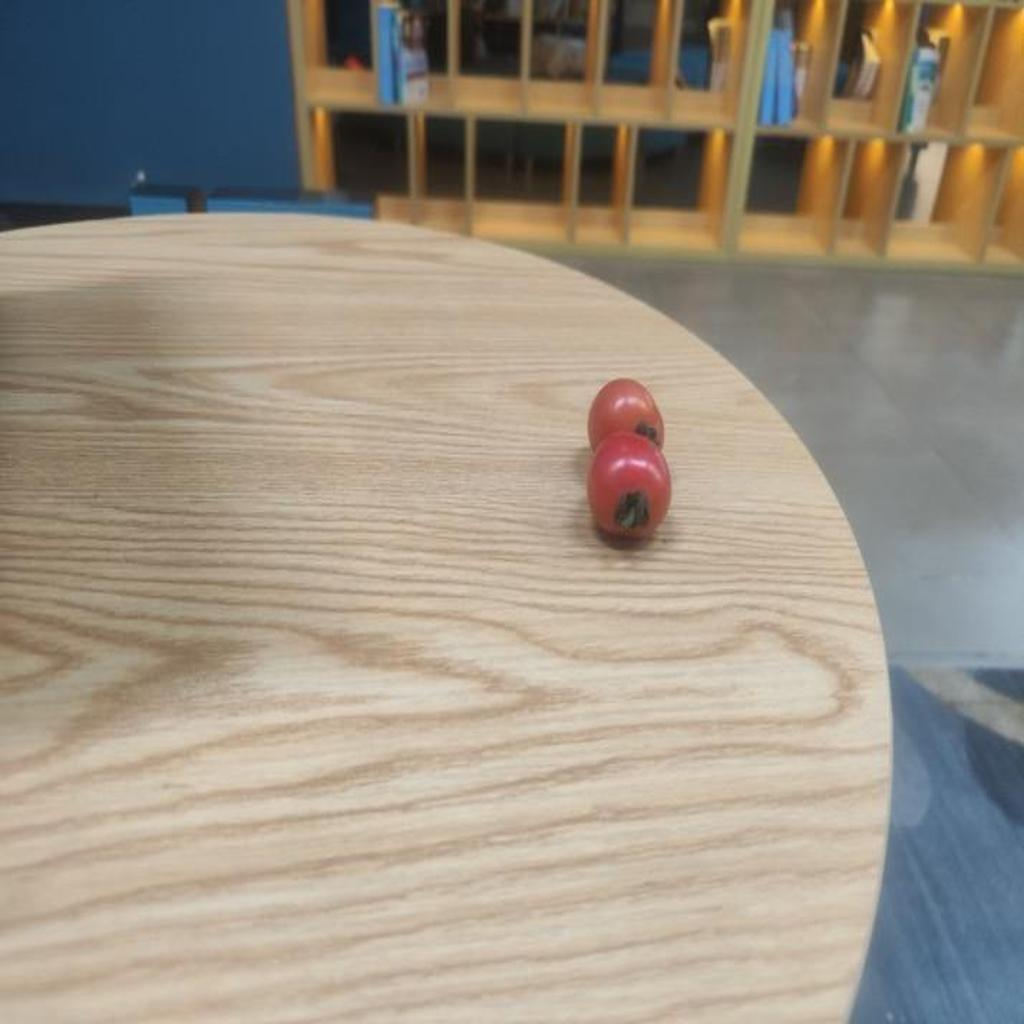tomato: (568, 428, 674, 547), (585, 368, 669, 459)
